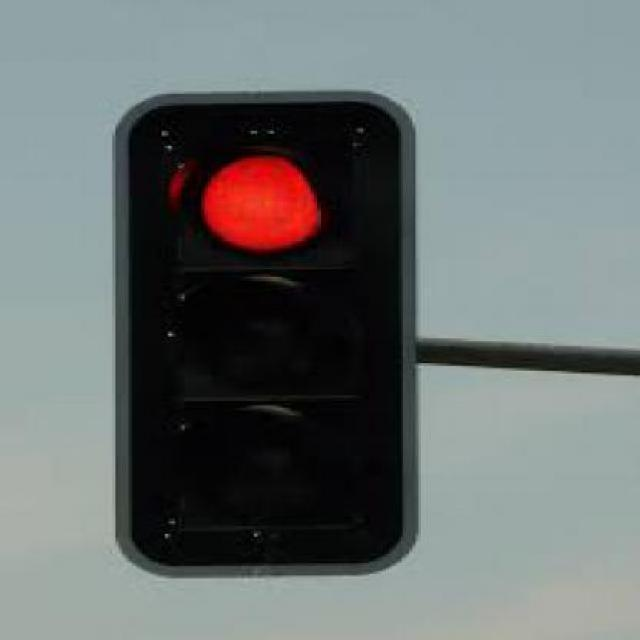red: (202, 154, 328, 267)
